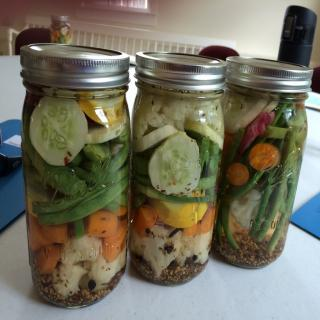Cucumber: (28, 94, 88, 166), (148, 128, 202, 196), (224, 99, 269, 135), (87, 108, 125, 144), (132, 126, 178, 153), (185, 120, 223, 151), (264, 102, 278, 114)
